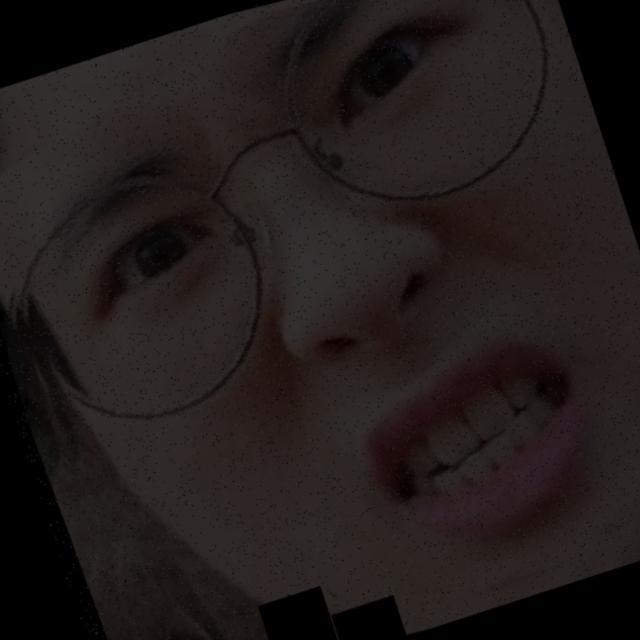Angry: (36, 22, 622, 603)
